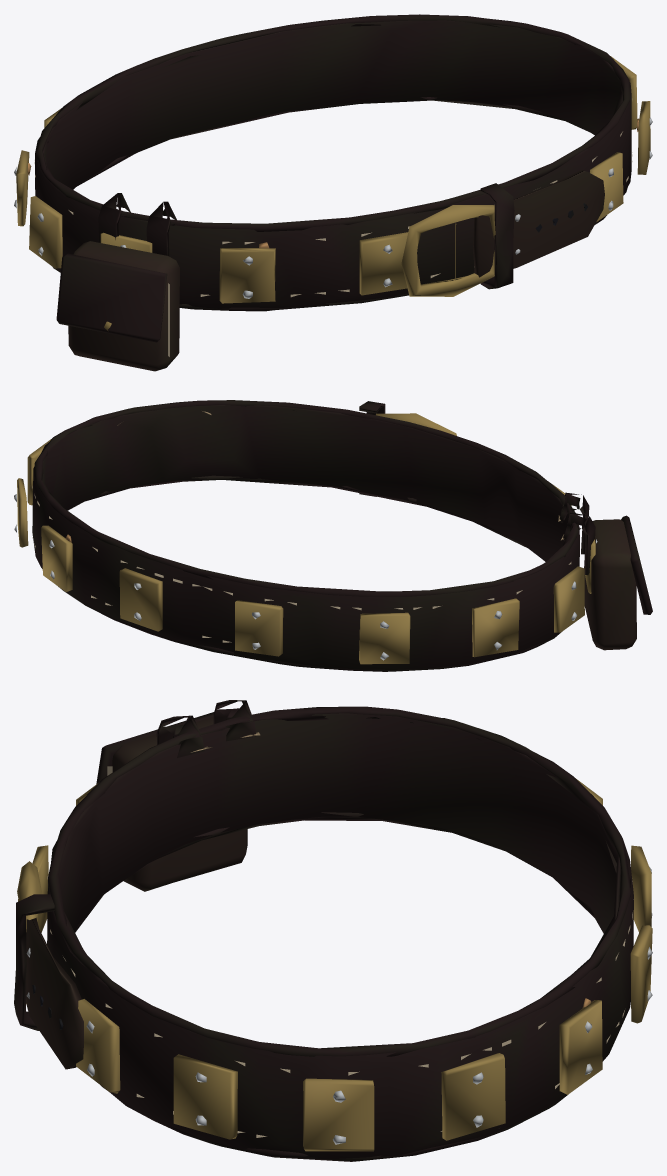
The picture shows the model from 3 angles, top to bottom: view 1: azimuth 30°, elevation 25°; view 2: azimuth 150°, elevation 25°; view 3: azimuth 270°, elevation 25°; orthographic projection. The views are drawn at different scales.
Parts seen in each view (by area): view 1: oiled strap leather, aged alloy edge; view 2: oiled strap leather, aged alloy edge; view 3: oiled strap leather, aged alloy edge.
Boxes of the visible parts, left/top/right/bottom form: oiled strap leather: left=34, top=14, right=632, bottom=371; aged alloy edge: left=14, top=56, right=652, bottom=331; oiled strap leather: left=32, top=400, right=652, bottom=671; aged alloy edge: left=14, top=413, right=597, bottom=664; oiled strap leather: left=14, top=700, right=633, bottom=1161; aged alloy edge: left=17, top=778, right=652, bottom=1151.
Size of the model in its own units: 0.4278 by 0.0948 by 0.2946.
